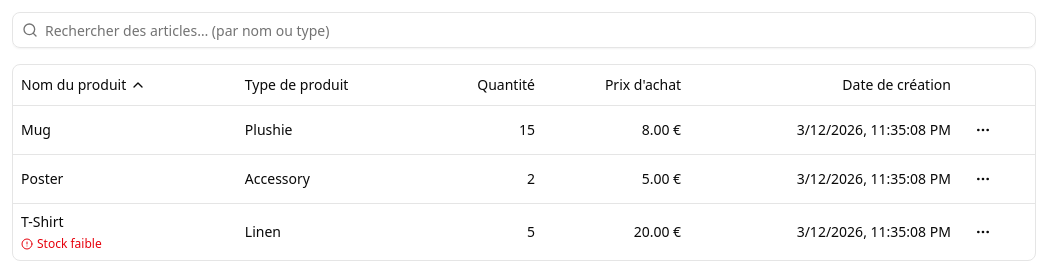
Test: StockTable › toggles sort direction when the same header is clicked twice
The width and height of the screenshot is (1048, 278).
Expected: the row "Mug Plushie 15 8.00 € 3/12/2026, 11:35:08 PM" is shown, [13,105,1035,154]
click the header to toggle to DESC
What coordinates should you click on to do the following:
click the text "Nom du produit"
I would click on:
 (84, 84)
Its box is [21,75,146,94].
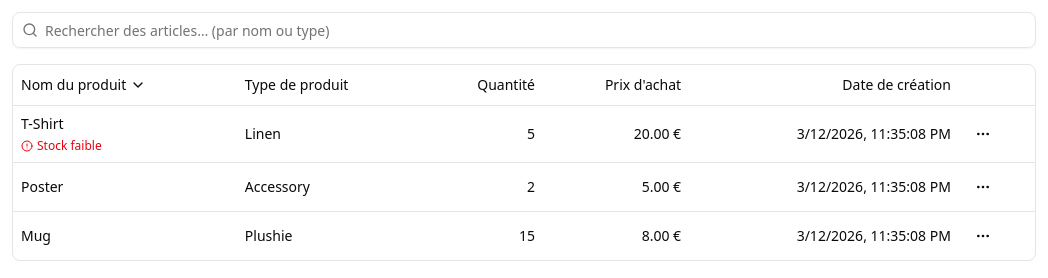
Result: the row "T-Shirt Stock faible Linen 5 20.00 € 3/12/2026, 11:35:08 PM" is shown at [13,105,1035,162]
click the same header a second time to toggle back to ASC
What coordinates should you click on to do the following:
click the text "Nom du produit"
I would click on:
 (84, 84)
Its box is [21,75,146,94].
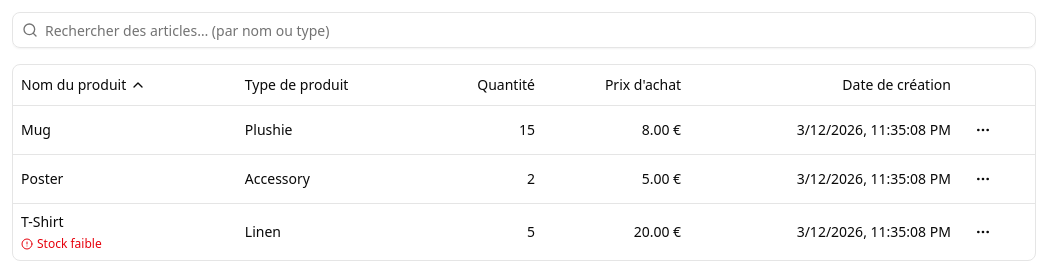
Result: the row "Mug Plushie 15 8.00 € 3/12/2026, 11:35:08 PM" is shown at [13,105,1035,154]
